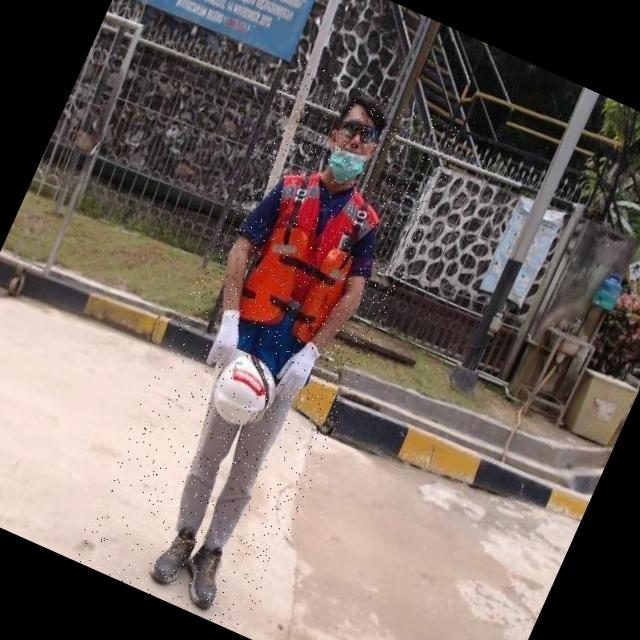hard_hat: (199, 344, 286, 435)
safety_vest: (210, 160, 390, 387)
vehicle: (71, 56, 469, 637)
work_boots: (172, 534, 240, 618), (148, 516, 205, 592)
